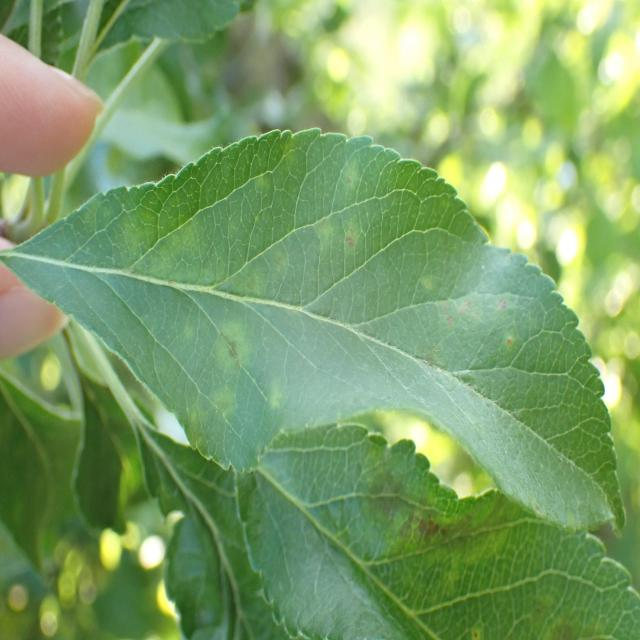scab: (103, 149, 557, 501)
